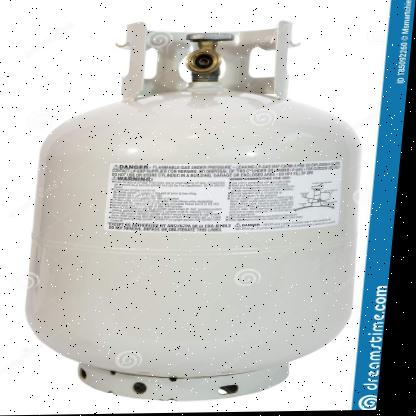gas-tank: (12, 6, 395, 412)
